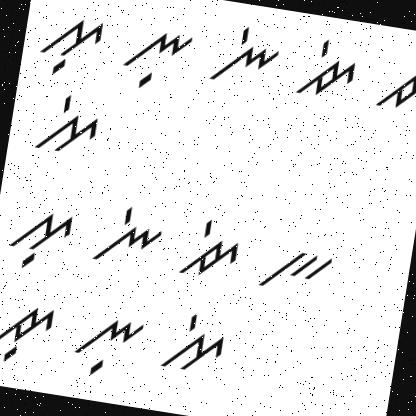ja: (371, 57, 416, 116)
je: (172, 207, 246, 288), (294, 32, 364, 109)
ju: (0, 297, 63, 372)
nye: (85, 193, 171, 276), (205, 16, 286, 94)
nyu: (112, 22, 198, 96), (71, 306, 148, 385)
se: (27, 85, 105, 163), (158, 303, 235, 381)
su: (1, 200, 80, 276), (37, 5, 111, 82)
